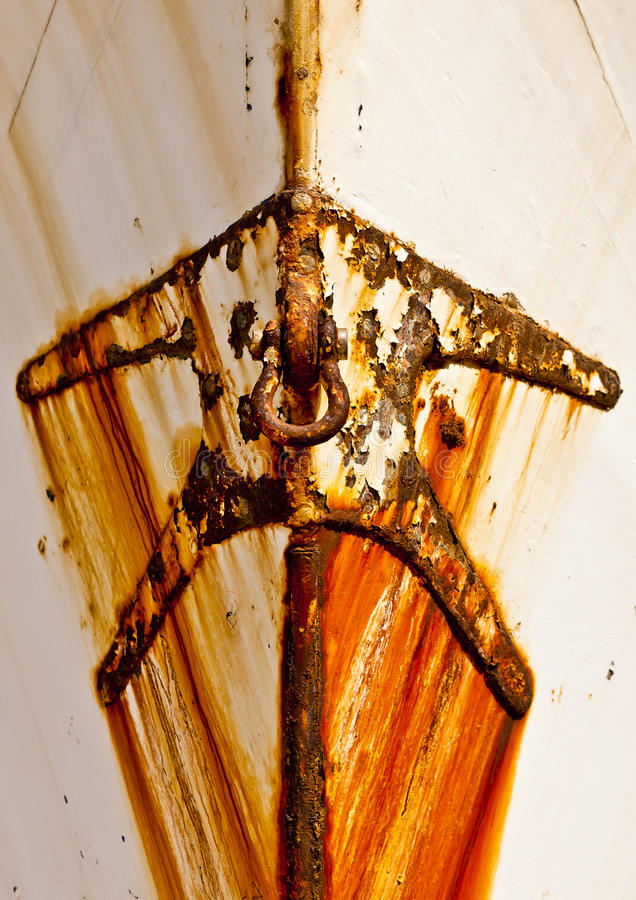rust: (282, 555, 327, 894), (262, 253, 338, 447), (431, 269, 561, 381), (396, 461, 456, 598), (172, 448, 229, 543), (106, 323, 203, 376)
